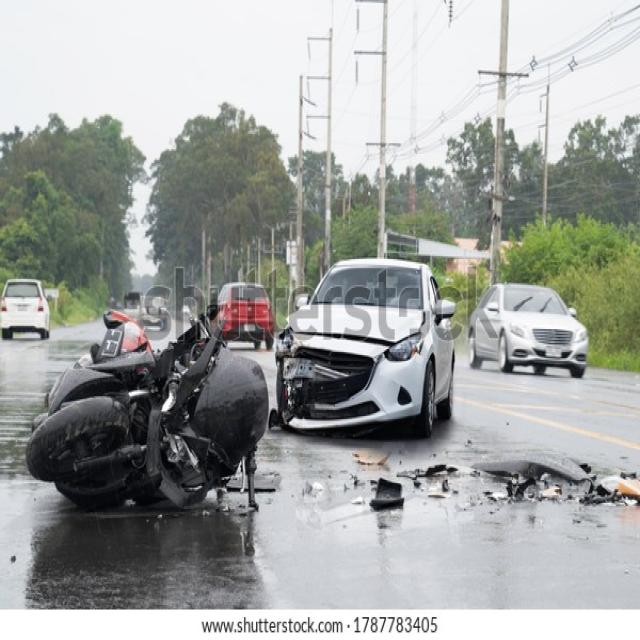Accident: (24, 251, 467, 522)
